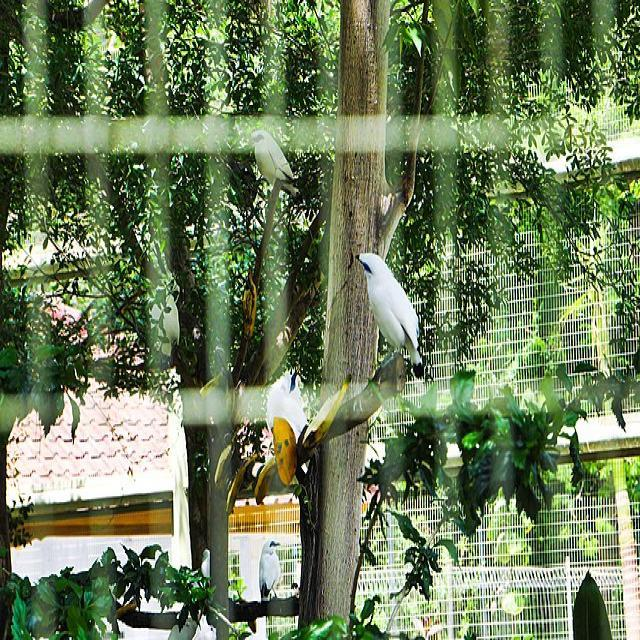Jalak Bali: (342, 236, 432, 380), (256, 353, 314, 467), (242, 118, 306, 210), (248, 531, 290, 614)
